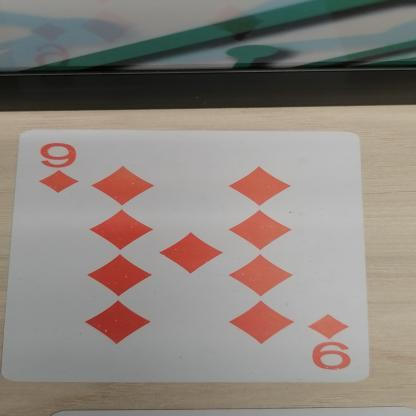9D: (14, 134, 118, 195), (310, 308, 362, 376)
